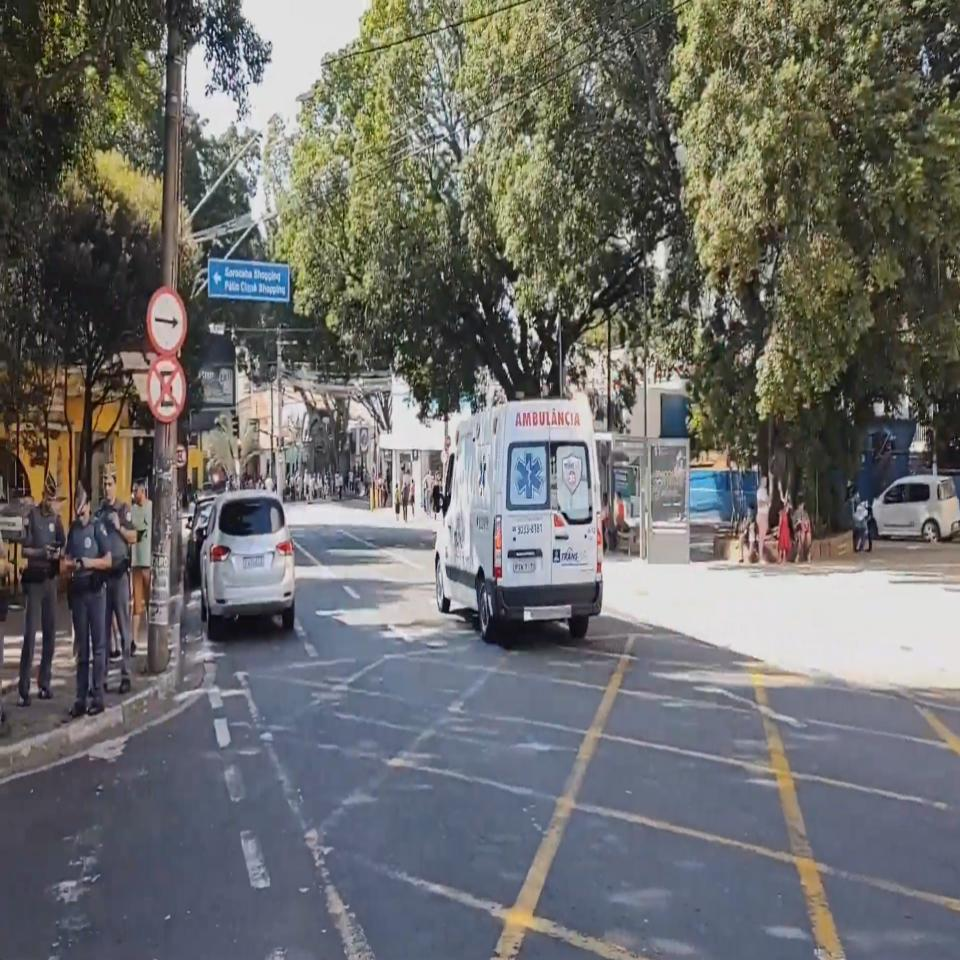viatura: (432, 397, 604, 647)
